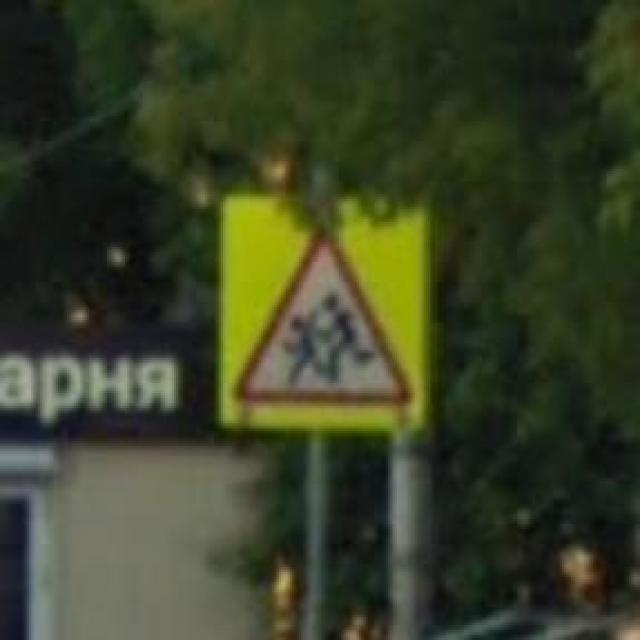Dzieci: (232, 219, 415, 408)
